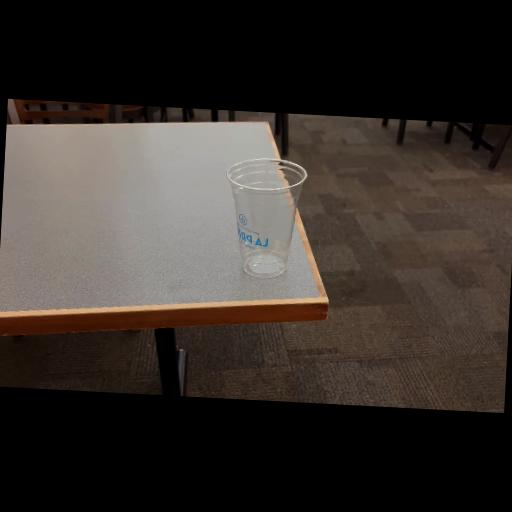lp_plastic_cup: (208, 130, 314, 308)
